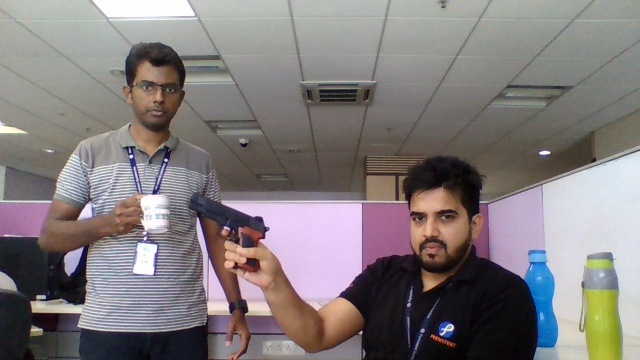gun: (188, 191, 265, 227)
